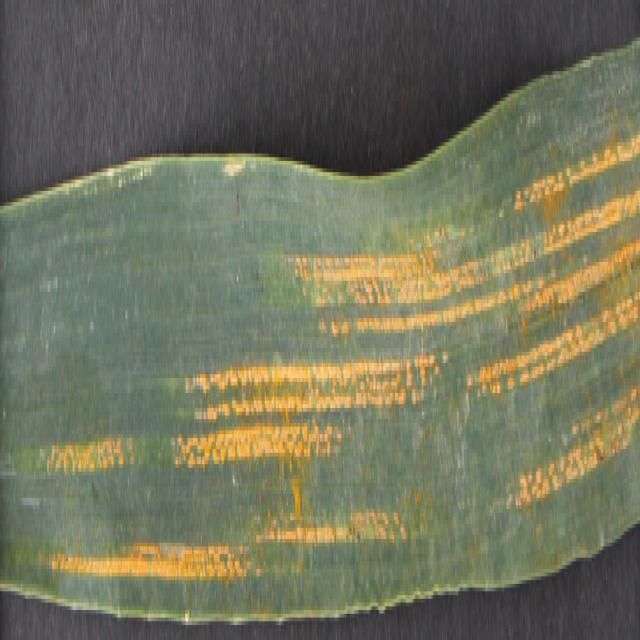leaf rust: (39, 108, 639, 618)
